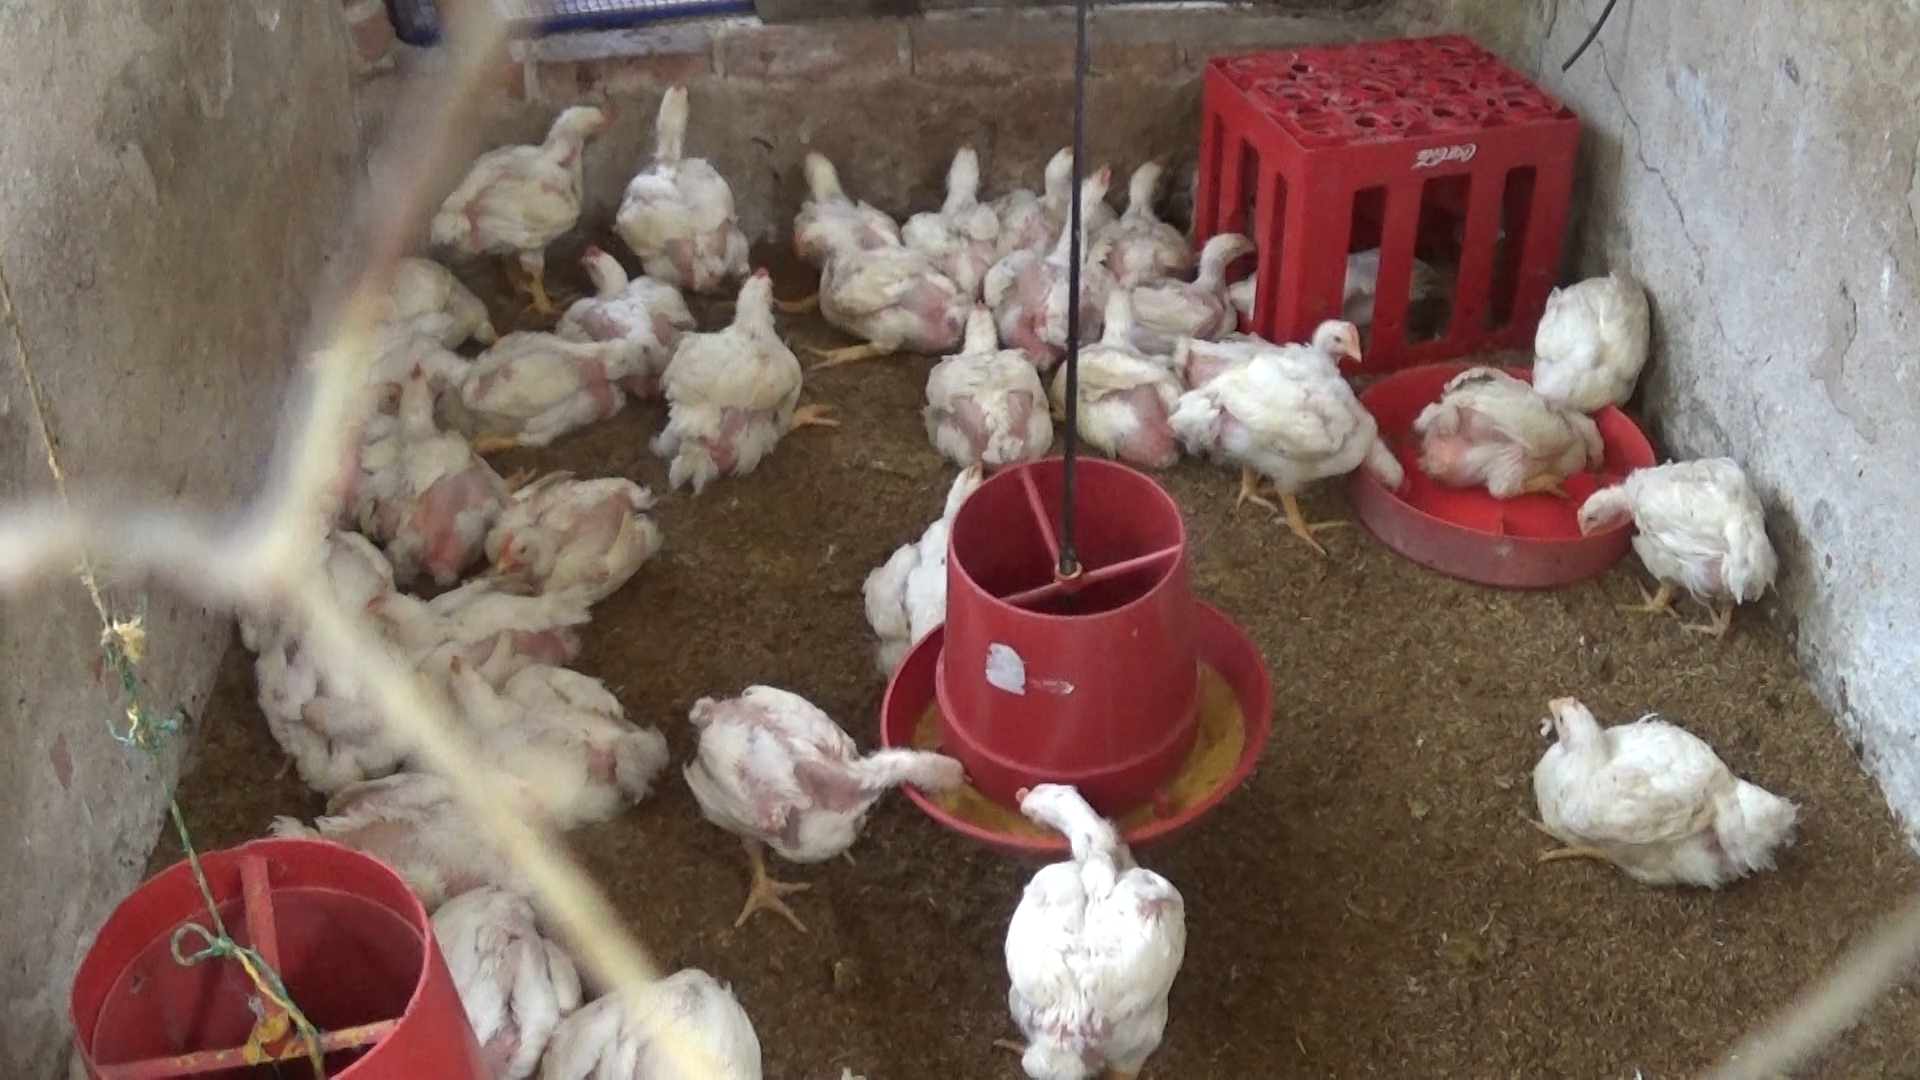Pollos: (680, 659, 978, 923), (994, 764, 1182, 1080), (1509, 687, 1796, 893), (1185, 323, 1395, 545), (646, 258, 833, 495), (426, 105, 644, 309), (1571, 454, 1780, 644), (435, 649, 657, 803), (426, 877, 585, 1072), (618, 76, 761, 293), (1411, 353, 1604, 498), (551, 967, 789, 1080), (394, 334, 628, 447), (978, 165, 1121, 342), (485, 469, 655, 612), (357, 404, 501, 568), (1534, 268, 1683, 422), (922, 301, 1056, 469), (1065, 289, 1193, 463), (798, 216, 953, 359), (560, 239, 688, 363), (785, 140, 905, 261), (1131, 232, 1265, 334), (913, 135, 1011, 270), (1098, 158, 1197, 284), (1001, 144, 1105, 243)
